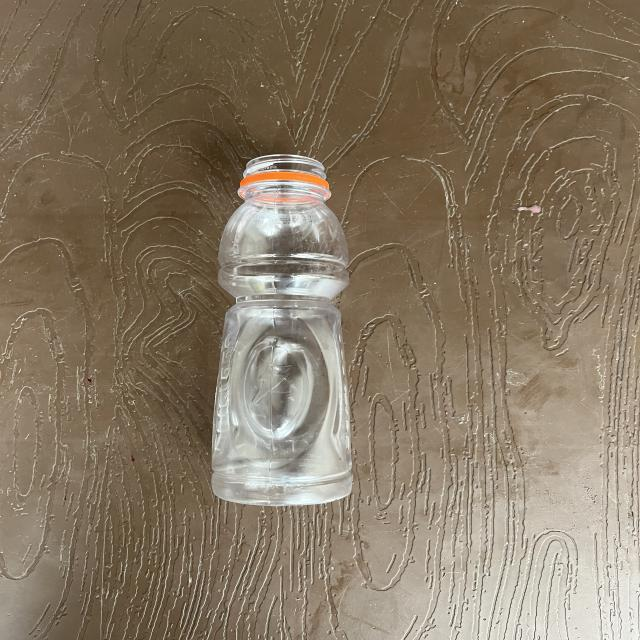PET_With_Cap: (201, 149, 356, 513)
